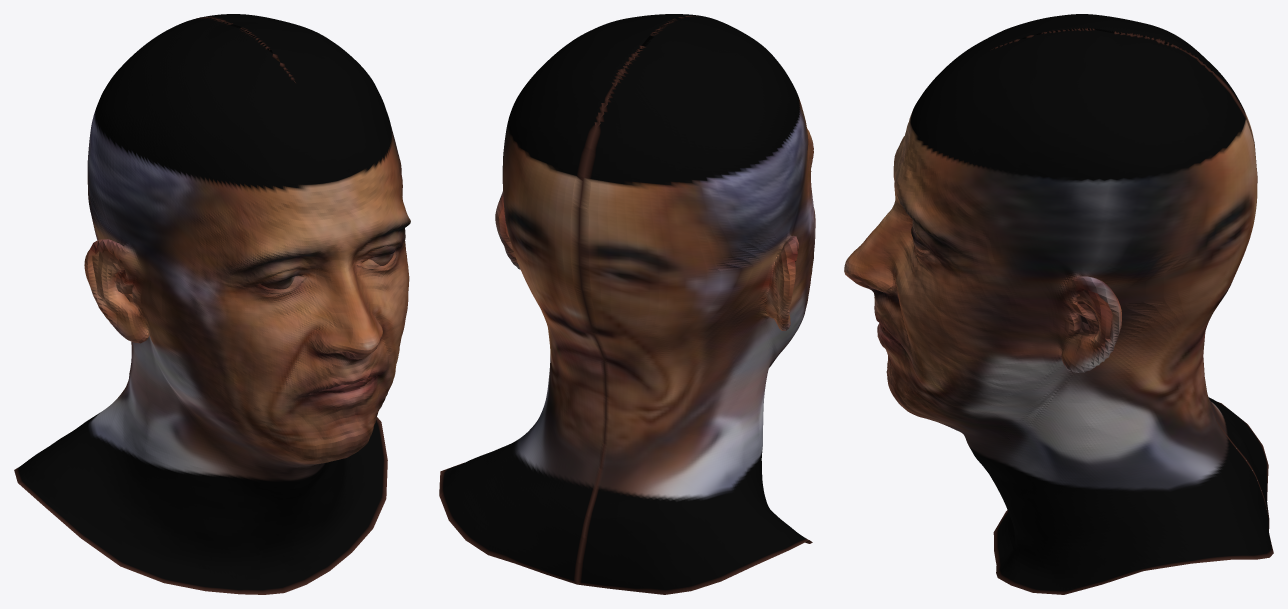
The model's file is mesh_coarse_detail.obj.
The picture shows the model from 3 angles, left to right: view 1: azimuth 30°, elevation 25°; view 2: azimuth 150°, elevation 25°; view 3: azimuth 270°, elevation 25°; orthographic projection. The views are drawn at different scales.
Bounding box in the file's own units: 0.2216 × 0.3229 × 0.2334.
